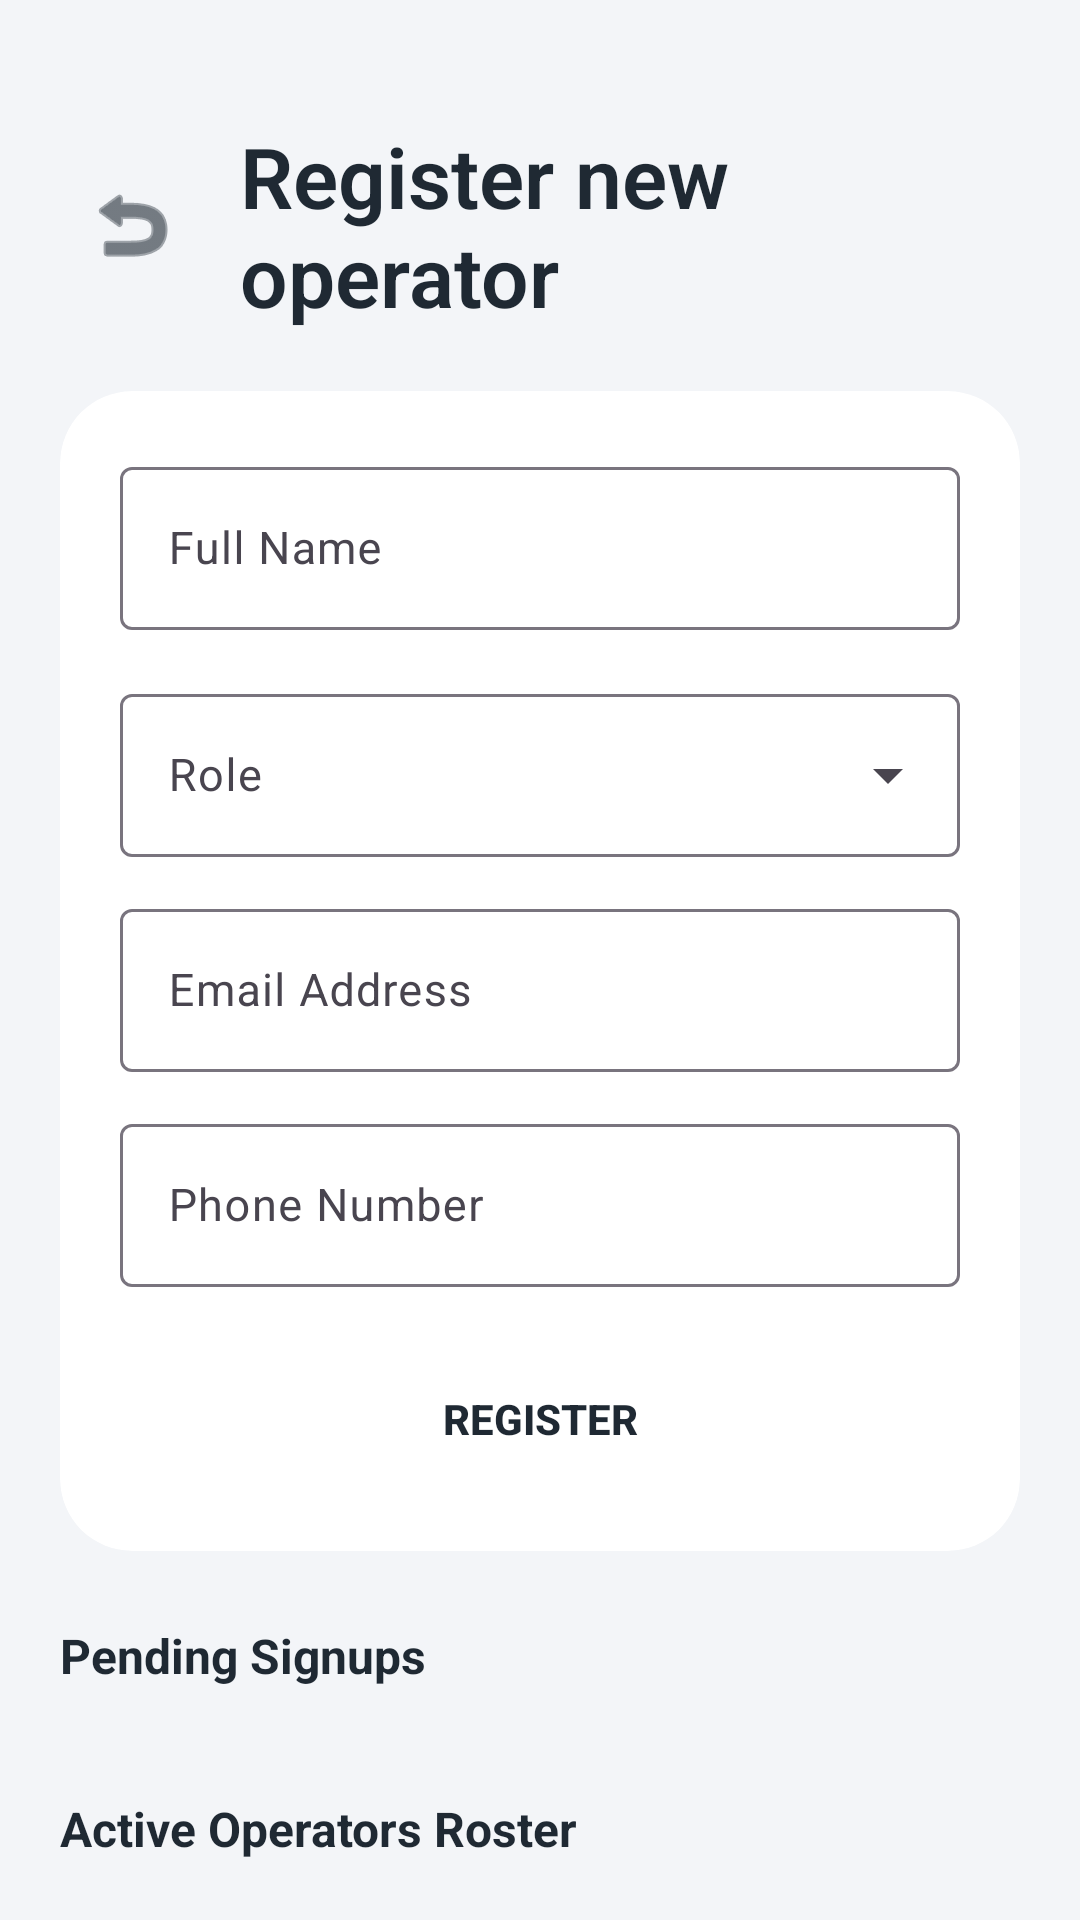

Where to tap for icons on this 1080w x 1920h app screen, as [x,y]:
revert: [133,225]
